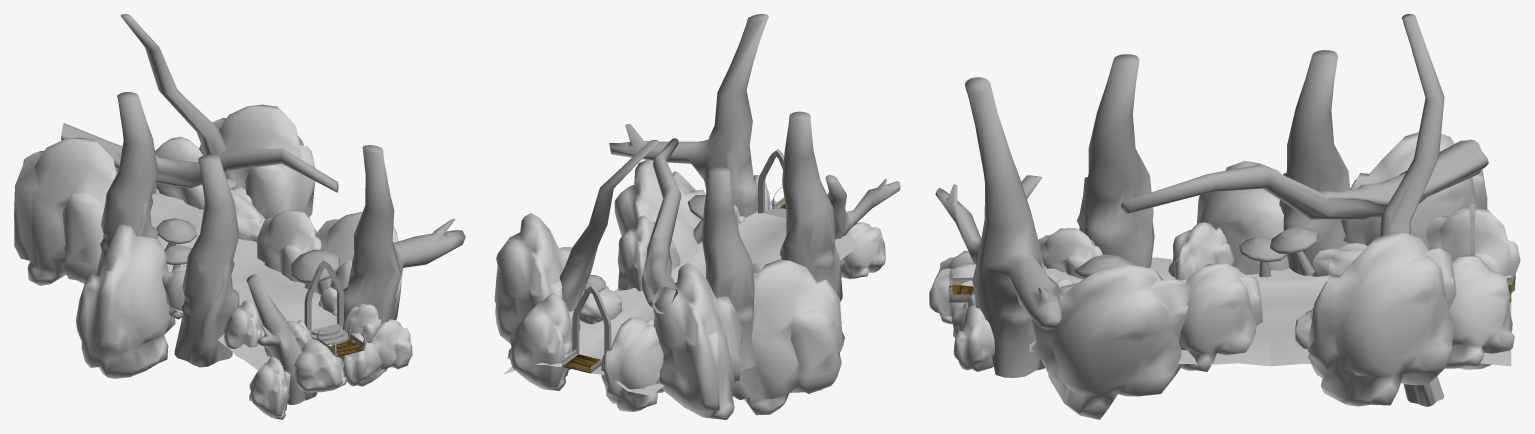
The model's file is fairyland_double.fbx.
The picture shows the model from 3 angles, left to right: view 1: azimuth 30°, elevation 25°; view 2: azimuth 150°, elevation 25°; view 3: azimuth 270°, elevation 25°; orthographic projection. The views are drawn at different scales.
Visible parts, largest first — view 1: rock_Swamp_014, rock_Swamp_016, pCylinder22, pCylinder7, rock_Swamp_015, CemeteryFloorStraight_01, pCylinder49, pCylinder26, rock_Swamp_08, pCylinder48, pCylinder27, rock_Swamp_017 (+14 smaller); view 2: rock_Swamp_016, rock_Swamp_014, pCylinder7, pCylinder22, pCylinder49, rock_Swamp_015, CemeteryFloorStraight_01, rock_Swamp_011, rock_Swamp_09, rock_Swamp_017, pCylinder26, pCylinder48 (+8 smaller); view 3: rock_Swamp_015, rock_Swamp_017, pCylinder7, pCylinder22, pCylinder26, pCylinder49, CemeteryFloorStraight_01, rock_Swamp_08, pCylinder48, rock_Swamp_011, rock_Swamp_014, rock_Swamp_016 (+10 smaller).
Part boxes in pixels (x1,y1,x2,y2): rock_Swamp_014: (14,137,117,285); rock_Swamp_016: (76,224,175,378); pCylinder22: (174,154,239,367); pCylinder7: (341,145,465,357); rock_Swamp_015: (199,104,315,219); CemeteryFloorStraight_01: (150,189,336,369); pCylinder49: (96,92,157,274); pCylinder26: (61,123,338,192); rock_Swamp_08: (257,210,321,282); pCylinder48: (120,14,236,181); pCylinder27: (246,274,317,404); rock_Swamp_017: (303,211,402,362); rock_Swamp_016: (733,259,844,415); rock_Swamp_014: (653,263,742,419); pCylinder7: (609,14,768,217); pCylinder22: (782,111,842,301); pCylinder49: (701,167,755,370); rock_Swamp_015: (494,213,571,369); CemeteryFloorStraight_01: (503,212,859,395); rock_Swamp_011: (507,293,580,390); rock_Swamp_09: (601,317,663,411); rock_Swamp_017: (614,159,705,258); pCylinder26: (640,138,681,313); pCylinder48: (559,140,658,311); rock_Swamp_015: (1308,232,1456,406); rock_Swamp_017: (1030,264,1189,419); pCylinder7: (965,77,1062,377); pCylinder22: (1077,54,1154,267); pCylinder26: (1121,139,1488,220); pCylinder49: (1279,50,1350,275); CemeteryFloorStraight_01: (1029,257,1511,366); rock_Swamp_08: (1179,262,1262,371); pCylinder48: (1379,14,1444,406); rock_Swamp_011: (1445,255,1514,369); rock_Swamp_014: (1340,132,1487,249); rock_Swamp_016: (1197,161,1288,274).
Bounding box in the file's own units: 56.15 × 51.81 × 76.61.
